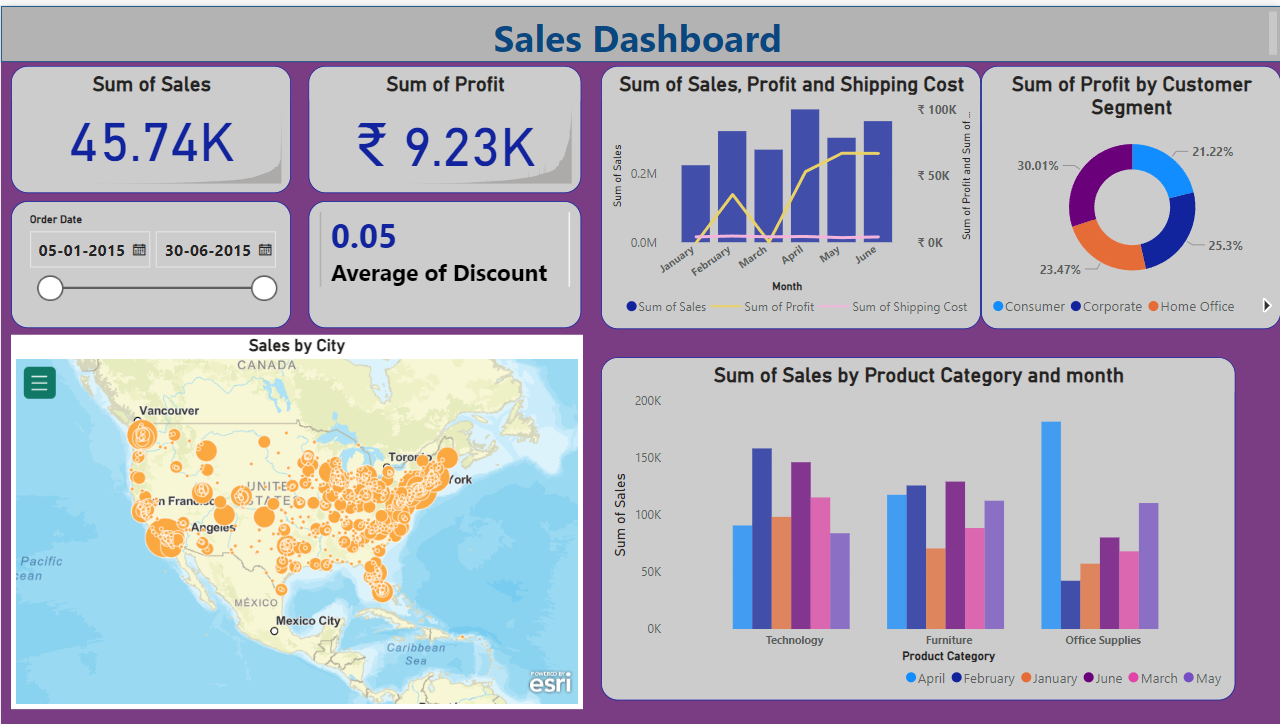

This screenshot's page, from the dashboard's own definition file:
{"tool":"powerbi","page":{"name":"sales dashboard","canvas":[1280,720],"ordinal":0},"visuals":[{"type":"kpi","title":"Sum of Sales","fields":{"Indicator":["Sum(Orders.Sales)"],"TrendLine":["Orders.Sales"]},"box":[9.8,59.9,279.9,127.1],"z":0},{"type":"kpi","title":"Sum of Profit","fields":{"Indicator":["Sum(Orders.Profit)"],"TrendLine":["Orders.Profit"]},"box":[308,59.9,272.6,127.1],"z":1000},{"type":"slicer","fields":{"Values":["Orders.Order Date"]},"box":[9.8,195.6,279.9,127.1],"z":2000},{"type":"multiRowCard","fields":{"Values":["Avg(Orders.Discount)"]},"box":[308,195.6,272.6,127.1],"z":3000},{"type":"esriVisual","title":"Sales by City","fields":{"Size":["Sum(Orders.Sales)"],"Location":["Orders.City"]},"box":[9.8,328.8,572.1,374.1],"z":4000},{"type":"textbox","box":[0,0,1279.9,56.2],"z":5000},{"type":"lineStackedColumnComboChart","title":"Sum of Sales, Profit and Shipping Cost","fields":{"Category":["Orders.Order Date.Variation.Date Hierarchy.Month"],"Y":["Sum(Orders.Sales)"],"Y2":["Sum(Orders.Profit)","Sum(Orders.Shipping Cost)"]},"box":[600.2,59.9,380.2,262.8],"z":6000},{"type":"clusteredColumnChart","fields":{"Category":["Orders.Product Category"],"Y":["Sum(Orders.Sales)"],"Series":["Orders.month"]},"box":[600.2,350.8,634.4,343.5],"z":7000},{"type":"donutChart","fields":{"Series":["Orders.Customer Segment"],"Y":["Sum(Orders.Profit)"]},"box":[980,60,300,263],"z":8000}]}

Visuals, with their boxes in screenshot pixels (x1, y1, x2, y2), scaled from the page's 1280x720 canvas onto the 1280x724 screenshot:
"Sum of Sales" kpi: bbox=[10, 60, 290, 188]
"Sum of Profit" kpi: bbox=[308, 60, 581, 188]
slicer - Orders.Order Date: bbox=[10, 197, 290, 324]
multiRowCard - Avg(Orders.Discount): bbox=[308, 197, 581, 324]
"Sales by City" esriVisual: bbox=[10, 331, 582, 707]
textbox: bbox=[0, 0, 1279, 57]
"Sum of Sales, Profit and Shipping Cost" lineStackedColumnComboChart: bbox=[600, 60, 980, 324]
clusteredColumnChart - Orders.Product Category x Sum(Orders.Sales): bbox=[600, 353, 1235, 698]
donutChart - Orders.Customer Segment x Sum(Orders.Profit): bbox=[980, 60, 1279, 325]
